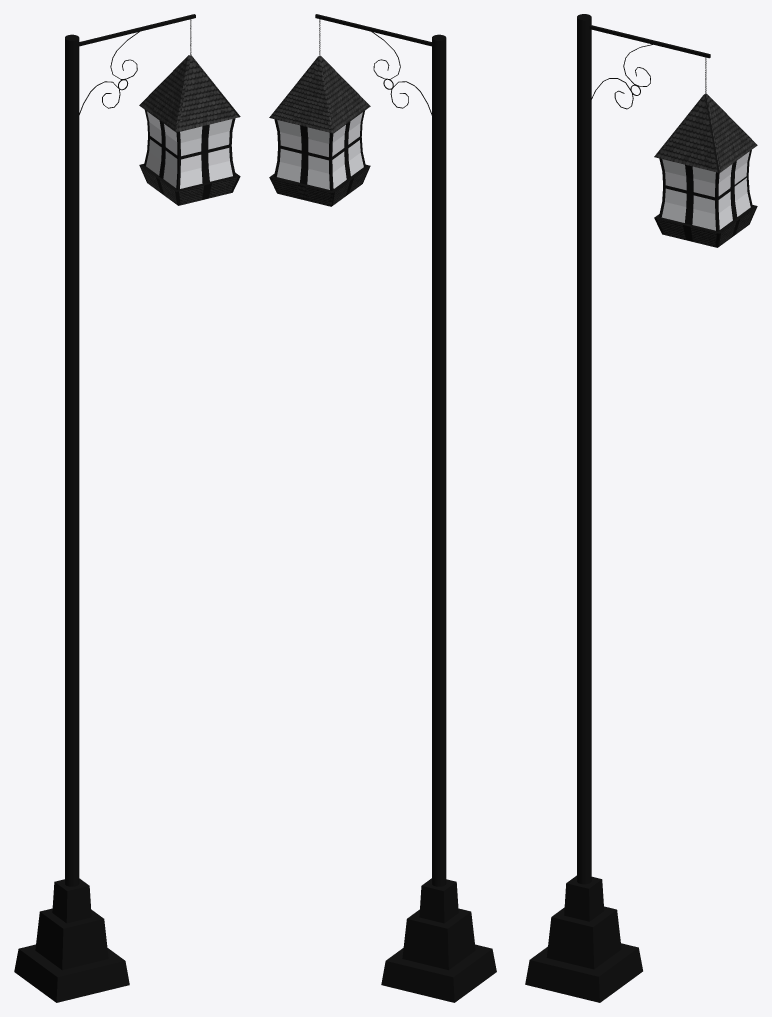
The model's file is Lamp.obj.
The picture shows the model from 3 angles, left to right: view 1: azimuth 30°, elevation 25°; view 2: azimuth 150°, elevation 25°; view 3: azimuth 330°, elevation 25°; orthographic projection. The views are drawn at different scales.
Parts seen in each view (by area): view 1: 1, 3, 2; view 2: 1, 3, 2; view 3: 1, 3, 2.
Part boxes in pixels (x1,y1,x2,y2): 1: [14, 14, 235, 1002]; 3: [139, 55, 240, 205]; 2: [146, 111, 232, 188]; 1: [274, 14, 496, 1002]; 3: [269, 56, 370, 206]; 2: [277, 112, 363, 189]; 1: [525, 14, 752, 1002]; 3: [654, 94, 757, 247]; 2: [661, 151, 750, 230].
Size of the model in its own units: 1.21 by 5.8 by 0.4733.
Materials: 3 (3 with a texture image).
